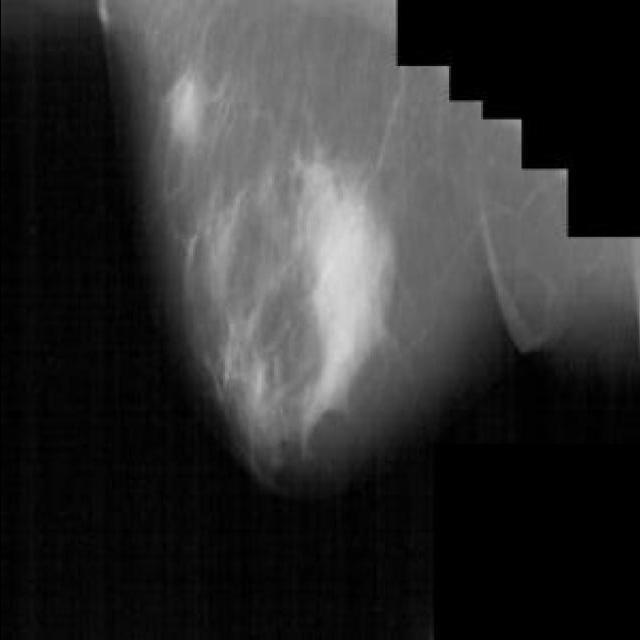tumor: (288, 164, 412, 416), (159, 66, 219, 158)
